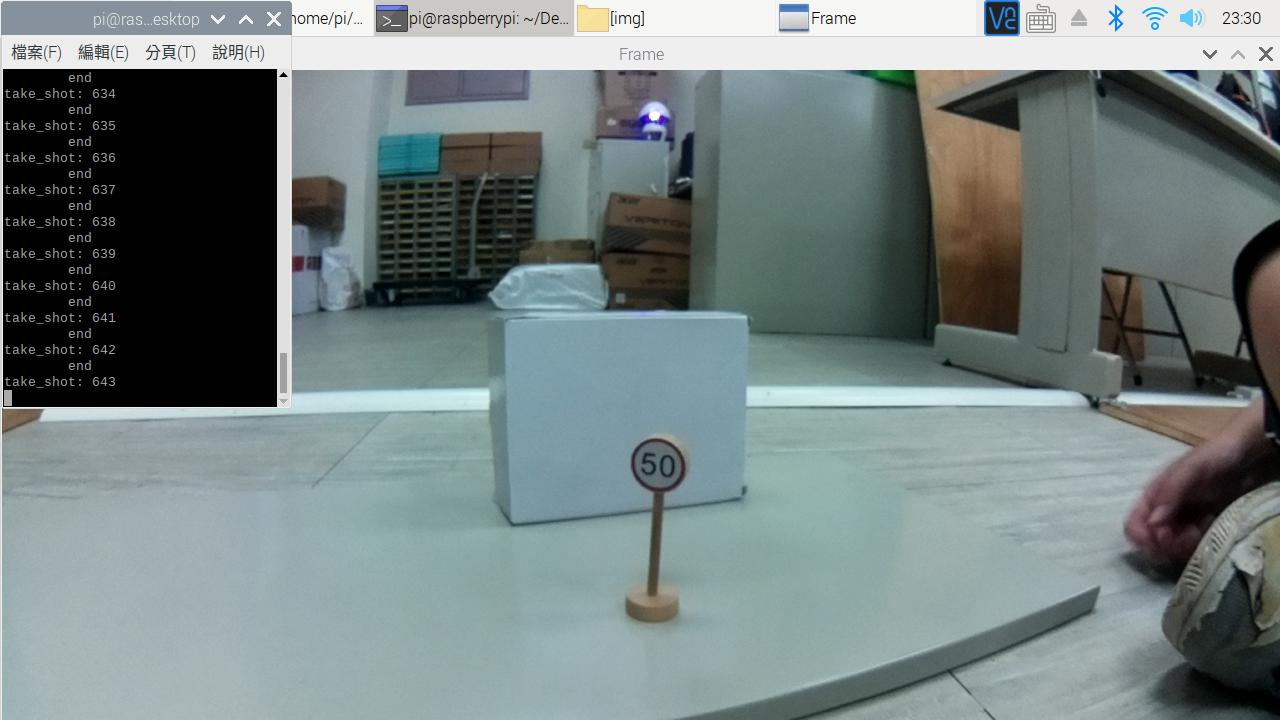Speed50: (627, 433, 701, 504)
